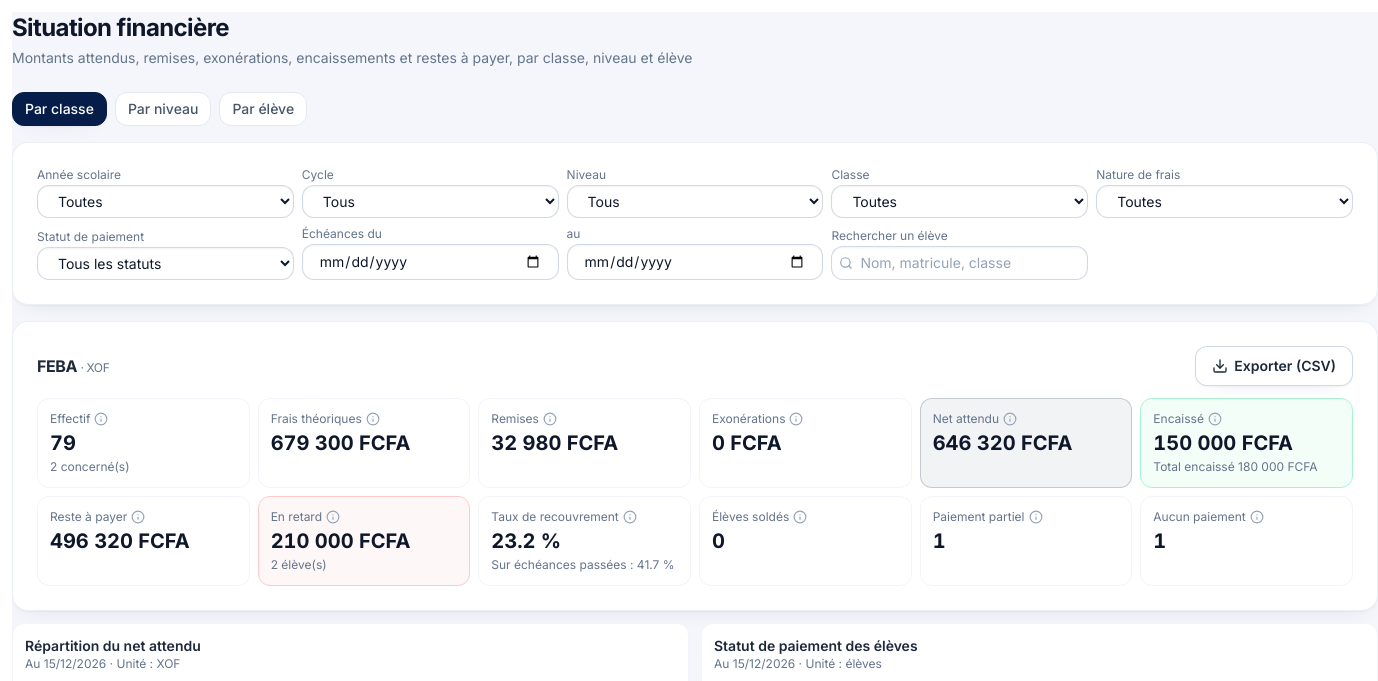
Situation financière › KPI expliqués et taux de recouvrement
The image size is (1378, 681).
Expected: the text "646 320 FCFA" is shown, [933,431,1072,455]
Expected: the text "23.2 %" is shown, [491,529,561,553]
Click the 9th button named "Explication": (630, 517) [617,504,643,530]
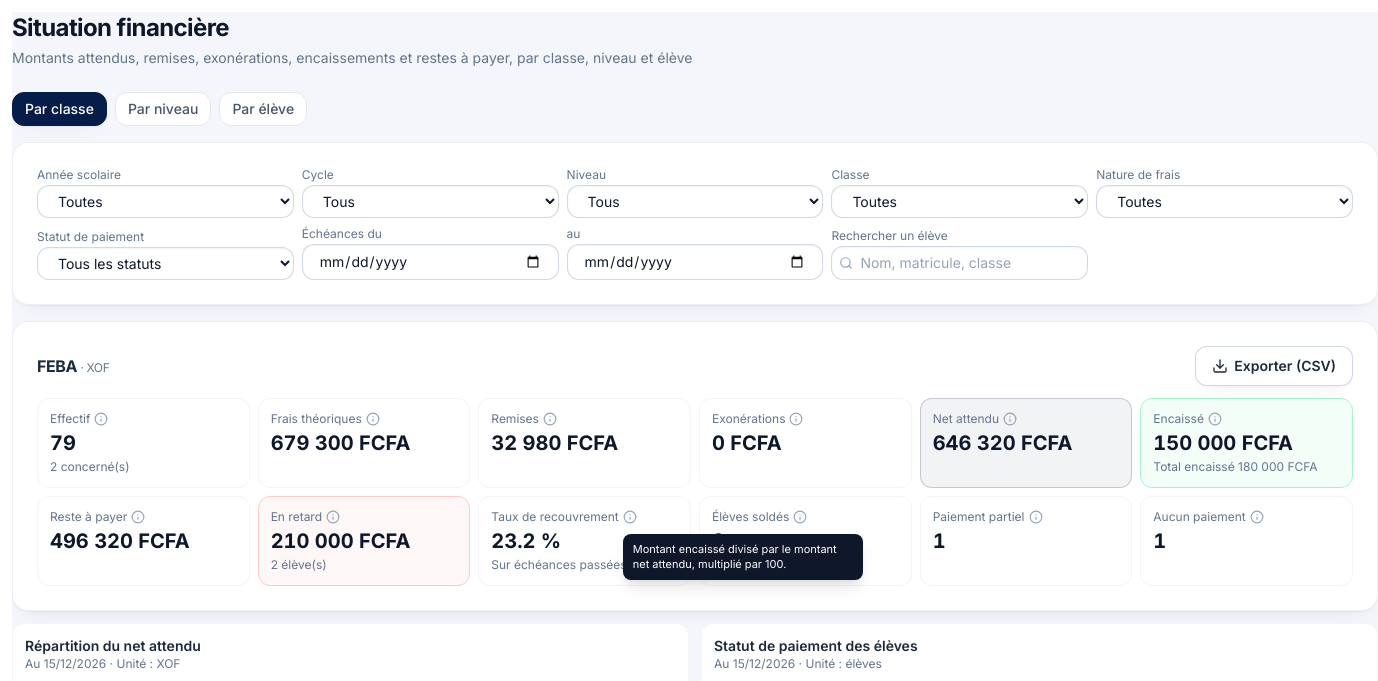
Result: the tooltip shows "encaissé divisé par le montant net attendu" at [633,542,837,571]
